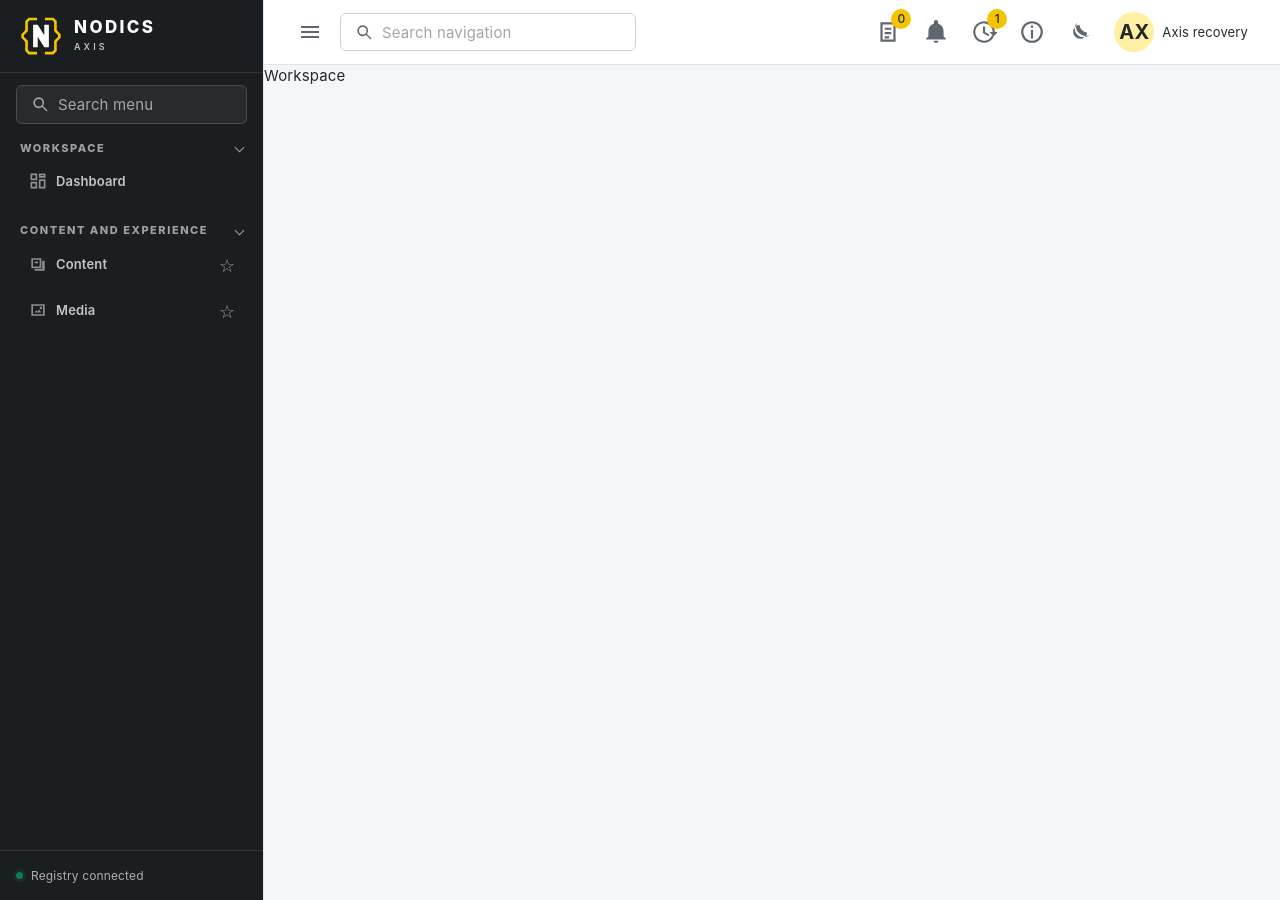
Scenario: Axis application shell navigation › limits rendered recent destinations from shell configuration
The width and height of the screenshot is (1280, 900).
Click the button named "Recent pages" at (984, 32), box [962, 10, 1006, 54]
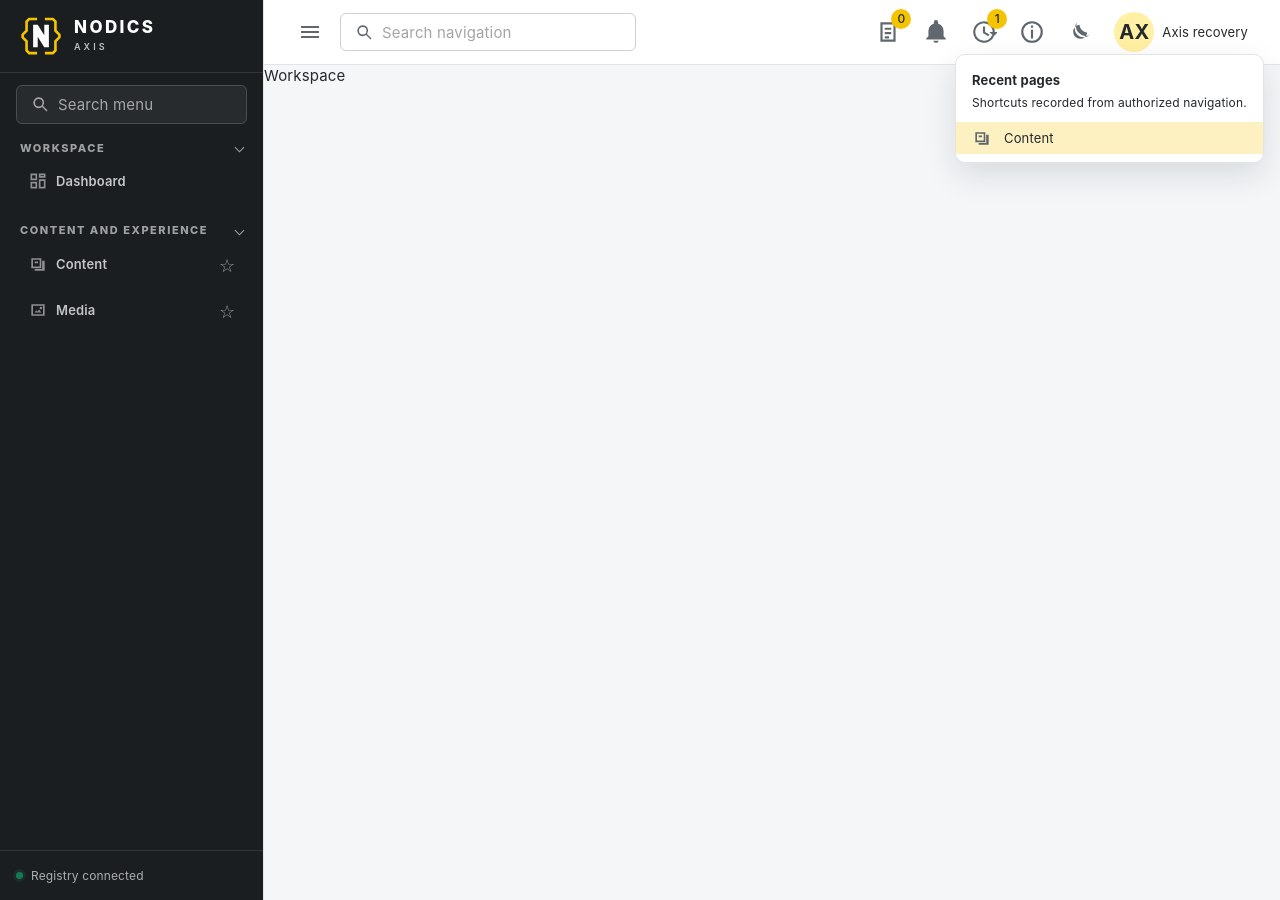
Now the menu item "Content" is shown, box [956, 122, 1263, 154]
